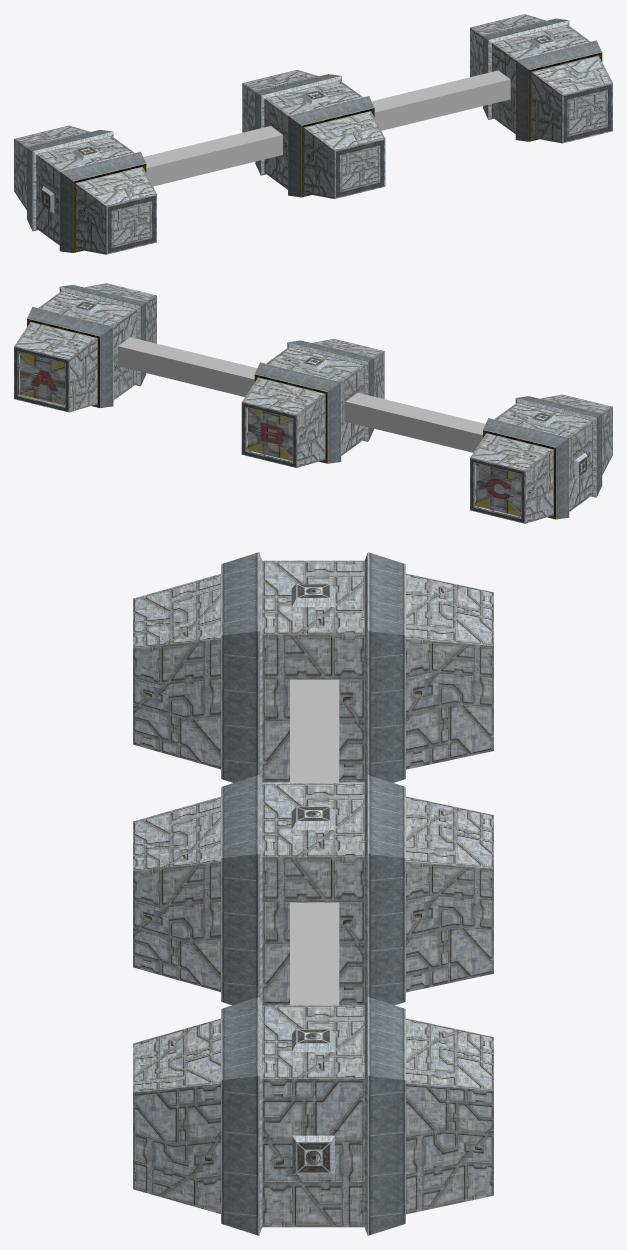
File: _PLAYERBASE_01.fbx
3 views of the same model, one above another, from view 1: azimuth 30°, elevation 25°; view 2: azimuth 150°, elevation 25°; view 3: azimuth 270°, elevation 25° (orthographic). The views are drawn at different scales.
Visible parts, largest first — view 1: Group6, Group3, Group1, Group4, Group2, Group8, Group7; view 2: Group6, Group3, Group1, Group4, Group2, Group8, Group19, Group25, Group13, Group11, Group16, Group22 (+1 smaller); view 3: Group6, Group3, Group5, Group1, Group2, Group7.
Part boxes in pixels (x1=…): Group6: x1=14, y1=14, x2=612, y2=254; Group3: x1=27, y1=18, x2=601, y2=252; Group1: x1=143, y1=70, x2=510, y2=186; Group4: x1=106, y1=83, x2=612, y2=254; Group2: x1=32, y1=20, x2=569, y2=231; Group8: x1=73, y1=52, x2=602, y2=252; Group7: x1=42, y1=34, x2=554, y2=210; Group6: x1=14, y1=283, x2=612, y2=523; Group3: x1=27, y1=285, x2=602, y2=519; Group1: x1=118, y1=337, x2=485, y2=452; Group4: x1=14, y1=346, x2=524, y2=523; Group2: x1=59, y1=287, x2=596, y2=497; Group8: x1=27, y1=318, x2=555, y2=519; Group19: x1=248, y1=428, x2=292, y2=460; Group25: x1=476, y1=484, x2=520, y2=516; Group13: x1=20, y1=373, x2=64, y2=405; Group11: x1=20, y1=352, x2=64, y2=383; Group16: x1=248, y1=408, x2=292, y2=439; Group22: x1=476, y1=463, x2=520, y2=494; Group6: x1=133, y1=560, x2=493, y2=1227; Group3: x1=221, y1=552, x2=405, y2=1080; Group5: x1=221, y1=1076, x2=405, y2=1235; Group1: x1=290, y1=679, x2=339, y2=1005; Group2: x1=259, y1=553, x2=367, y2=1234; Group7: x1=296, y1=584, x2=330, y2=1173.
Bounding box in the file's own units: 468 × 67.33 × 137.
